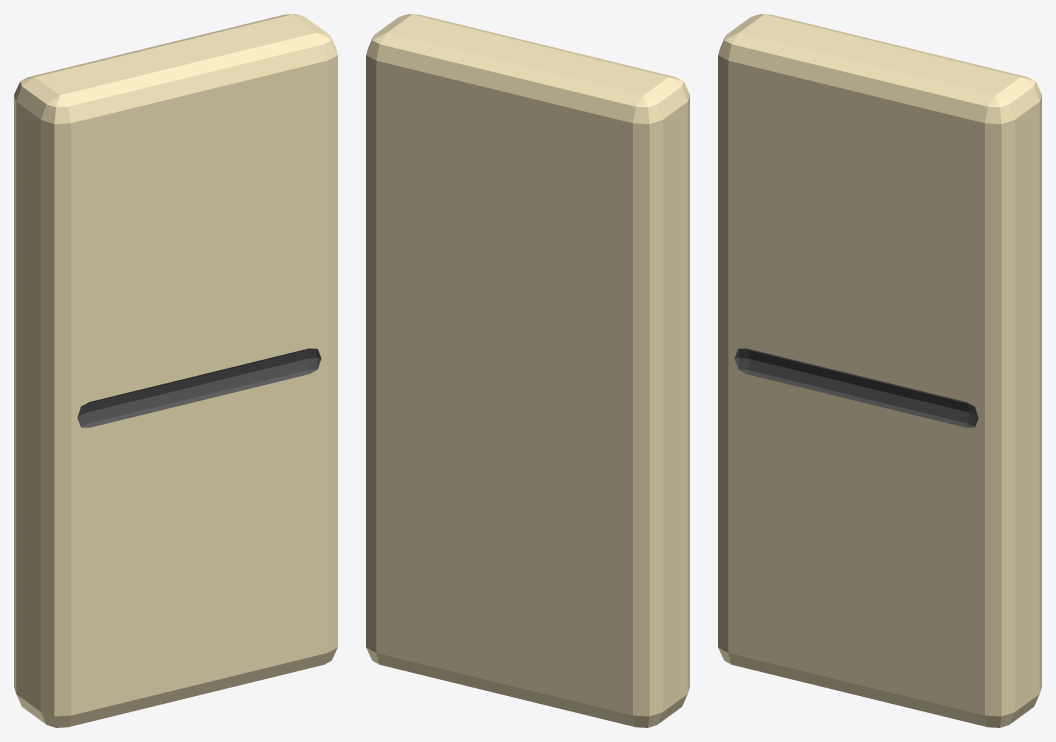
File: dominoes 0x0.fbx
3 views of the same model, side by side, from view 1: azimuth 30°, elevation 25°; view 2: azimuth 150°, elevation 25°; view 3: azimuth 330°, elevation 25° (orthographic).
Visible parts, largest first — view 1: Boole; view 2: Boole; view 3: Boole.
Part boxes in pixels (<box>): Boole: <box>14,14,337,727</box>; Boole: <box>366,14,689,727</box>; Boole: <box>718,14,1041,727</box>.
Size of the model in its own units: 200 by 410 by 55.02.
